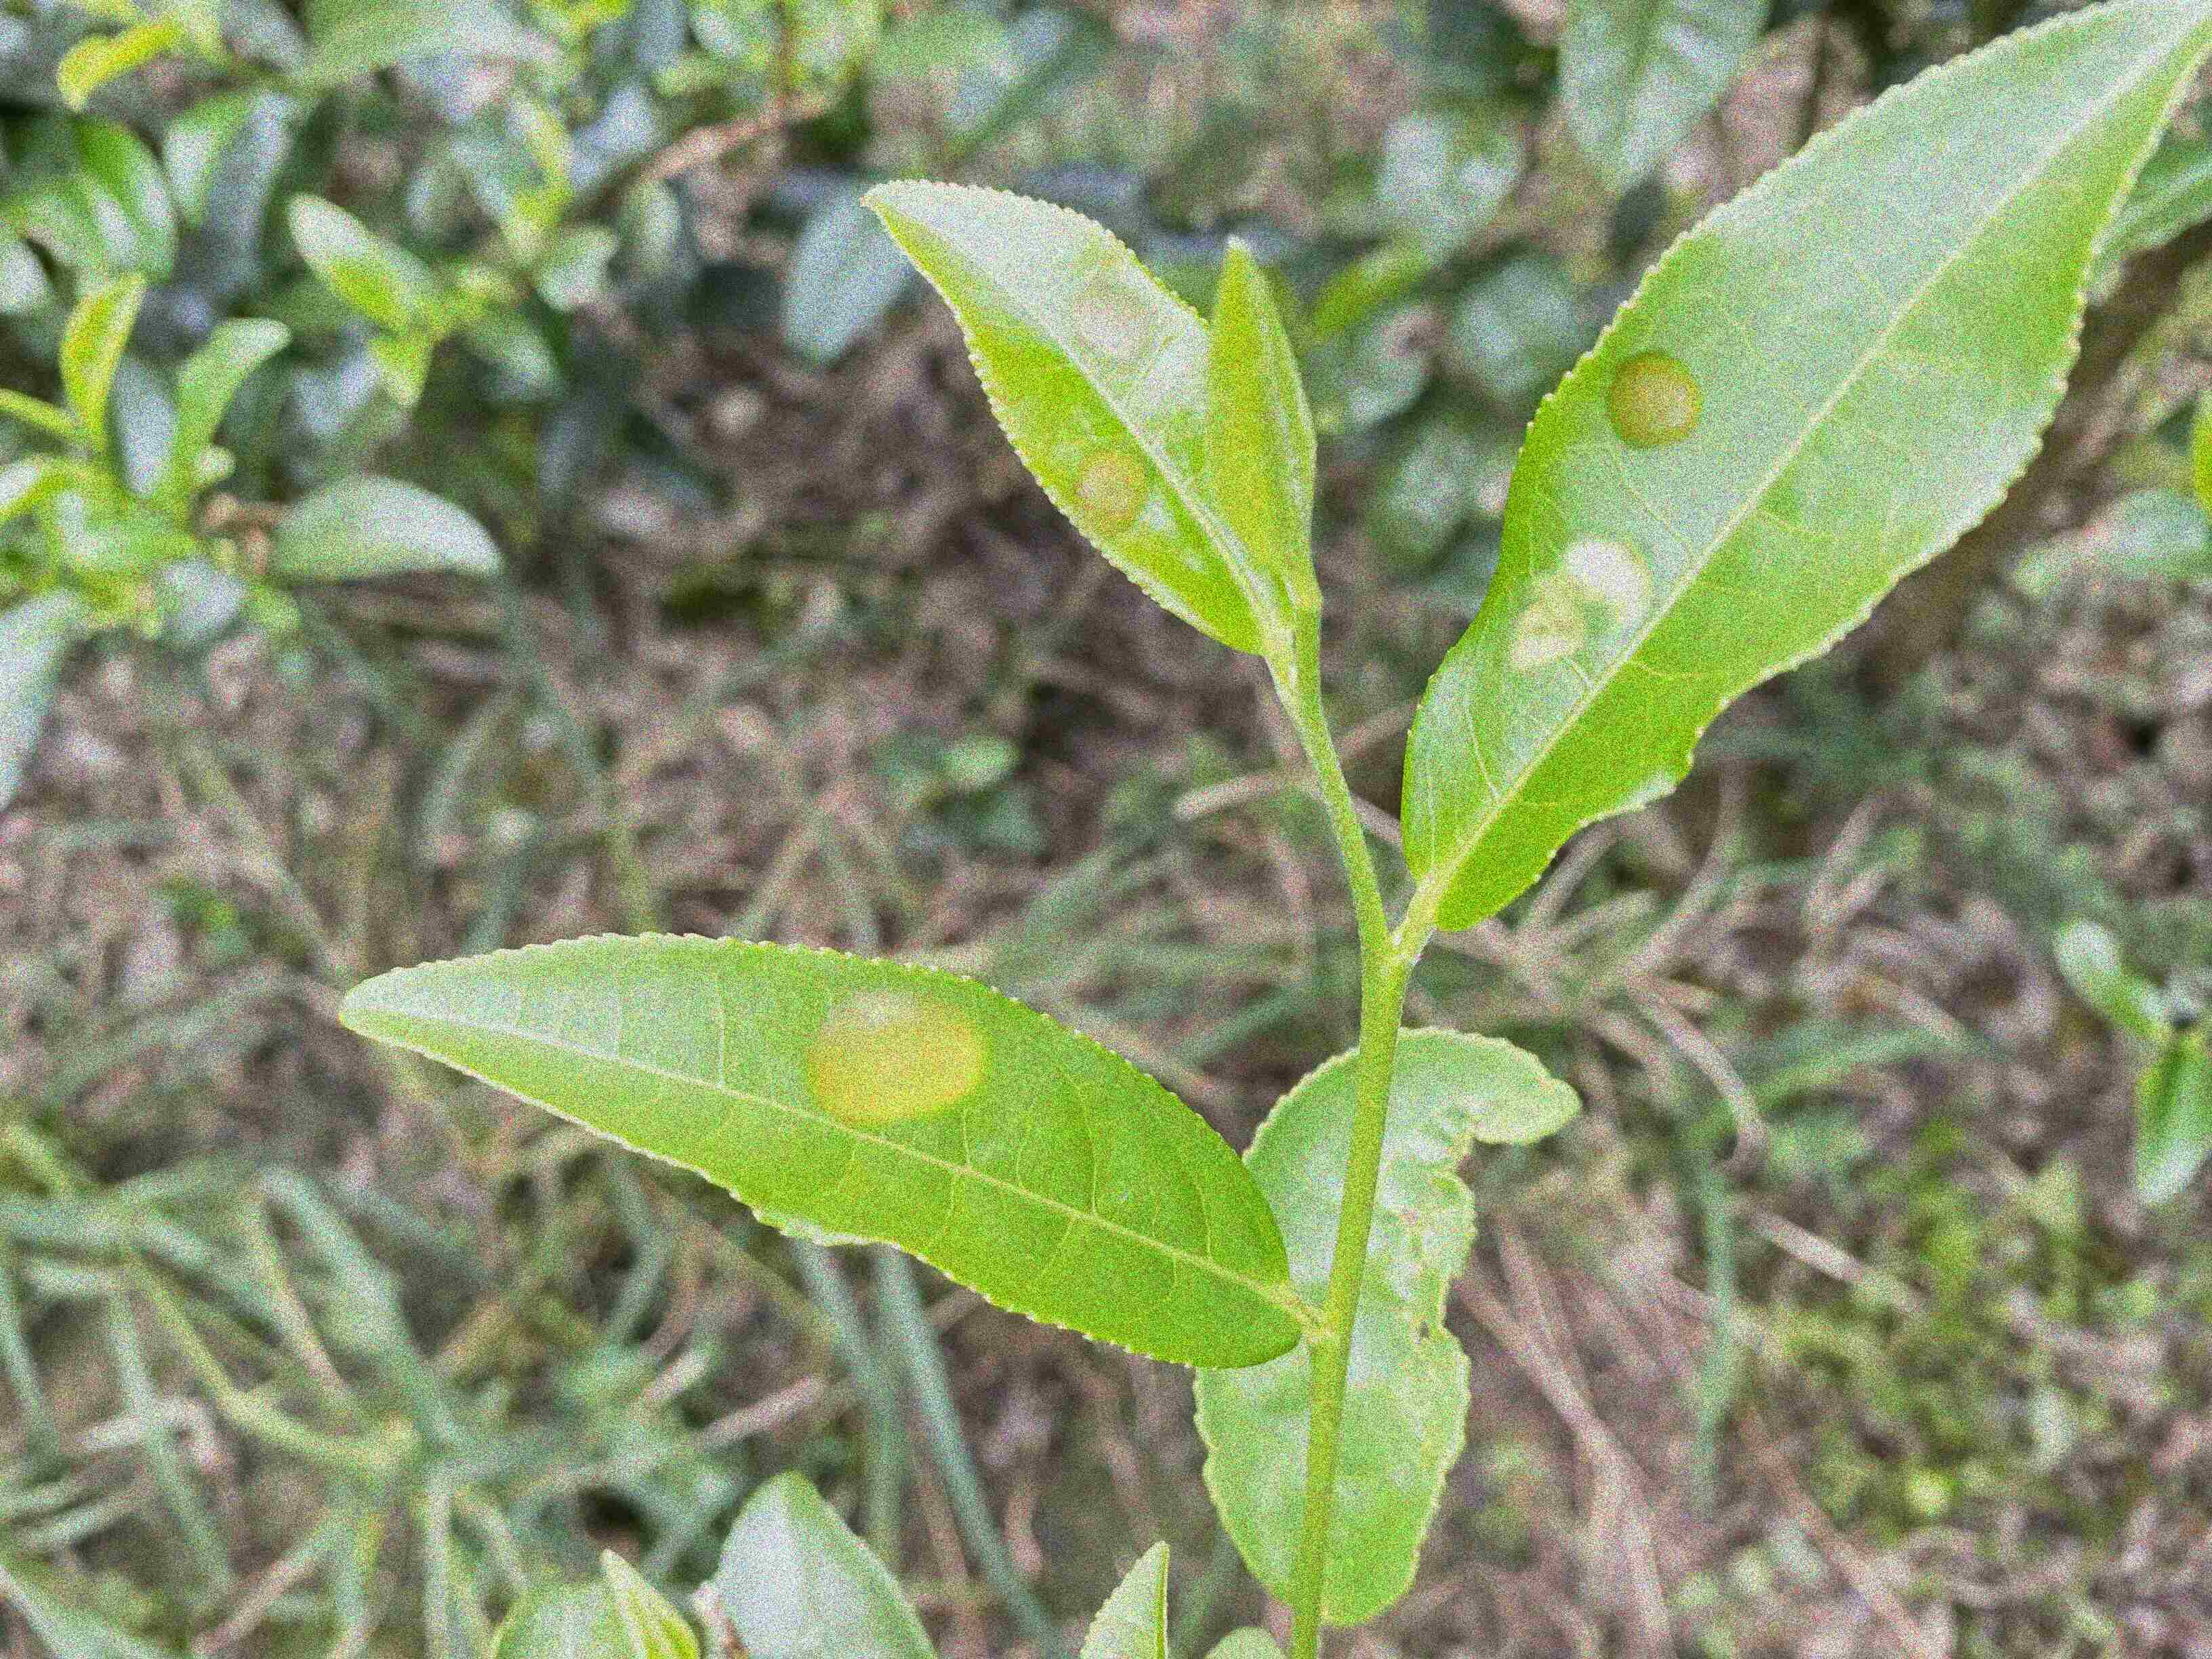chabing_high: (1397, 3, 2203, 934), (855, 178, 1292, 659)
chabing_low: (336, 924, 1296, 1370)
chihuo_high: (1188, 1023, 1580, 1626)
